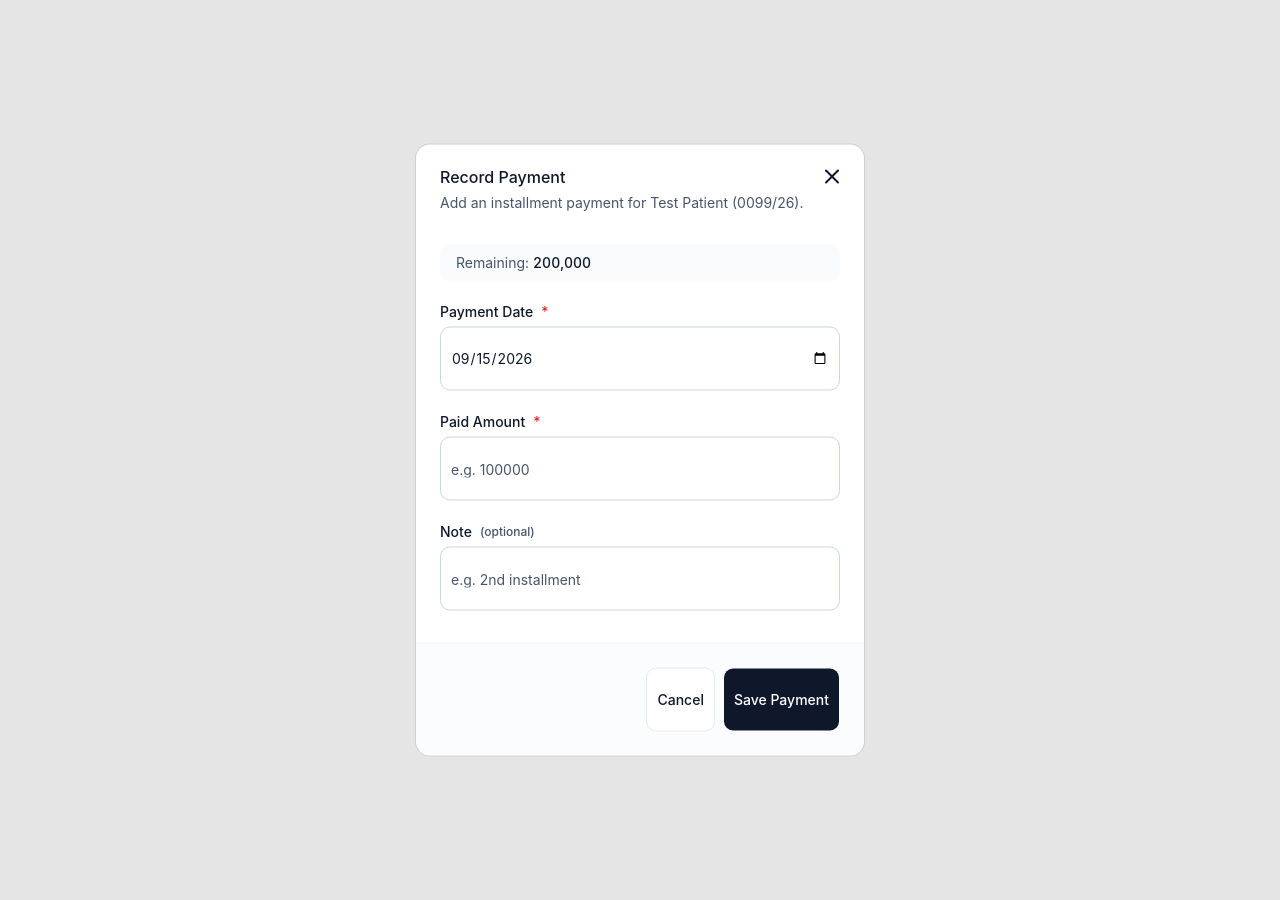
Test: PaymentDialog › shows validation error for empty paid amount
Click the button "Save Payment" at (781, 700), box x1=723 y1=668 x2=840 y2=732
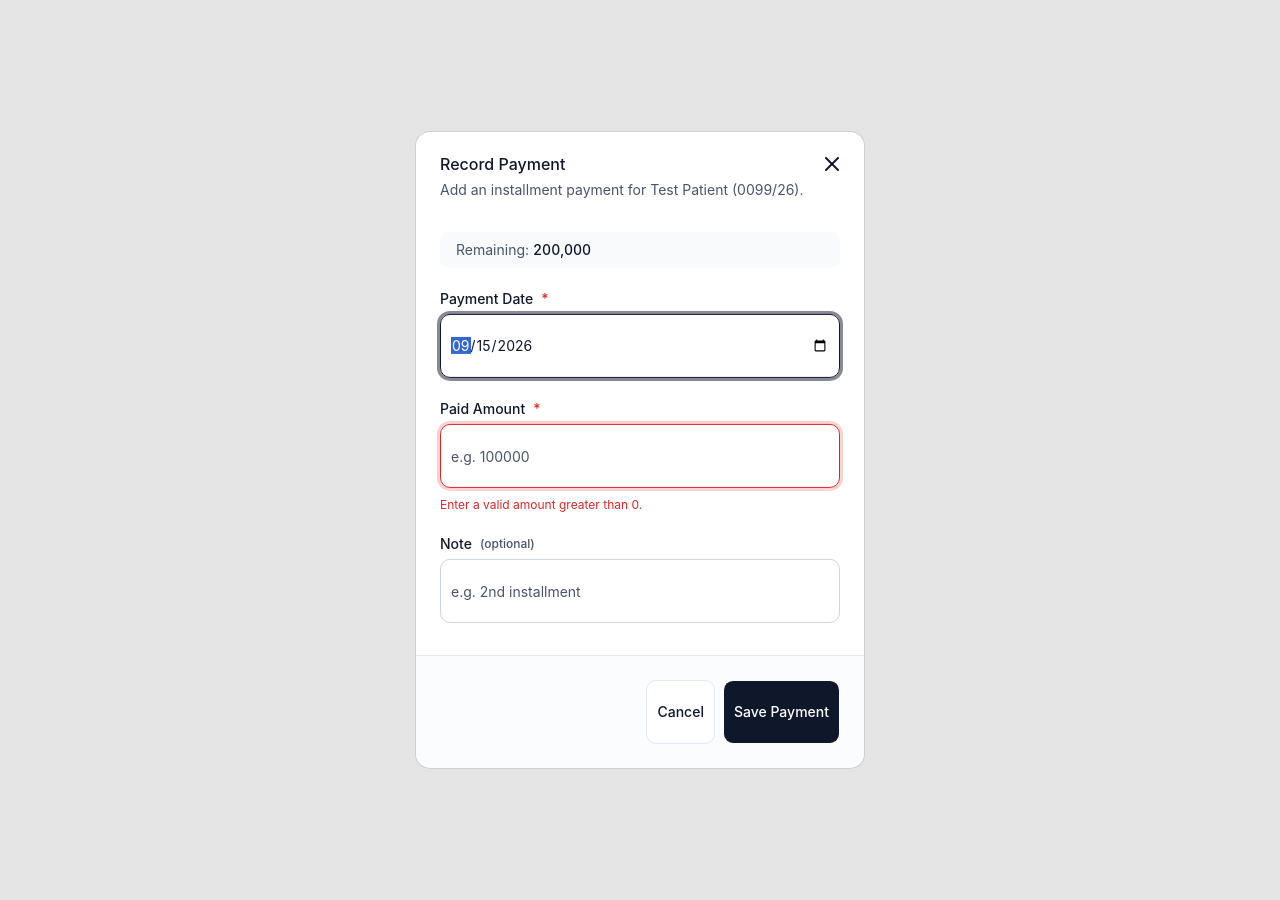
expect the text "Enter a valid amount greater than 0." is shown: met, box x1=440 y1=497 x2=642 y2=512
